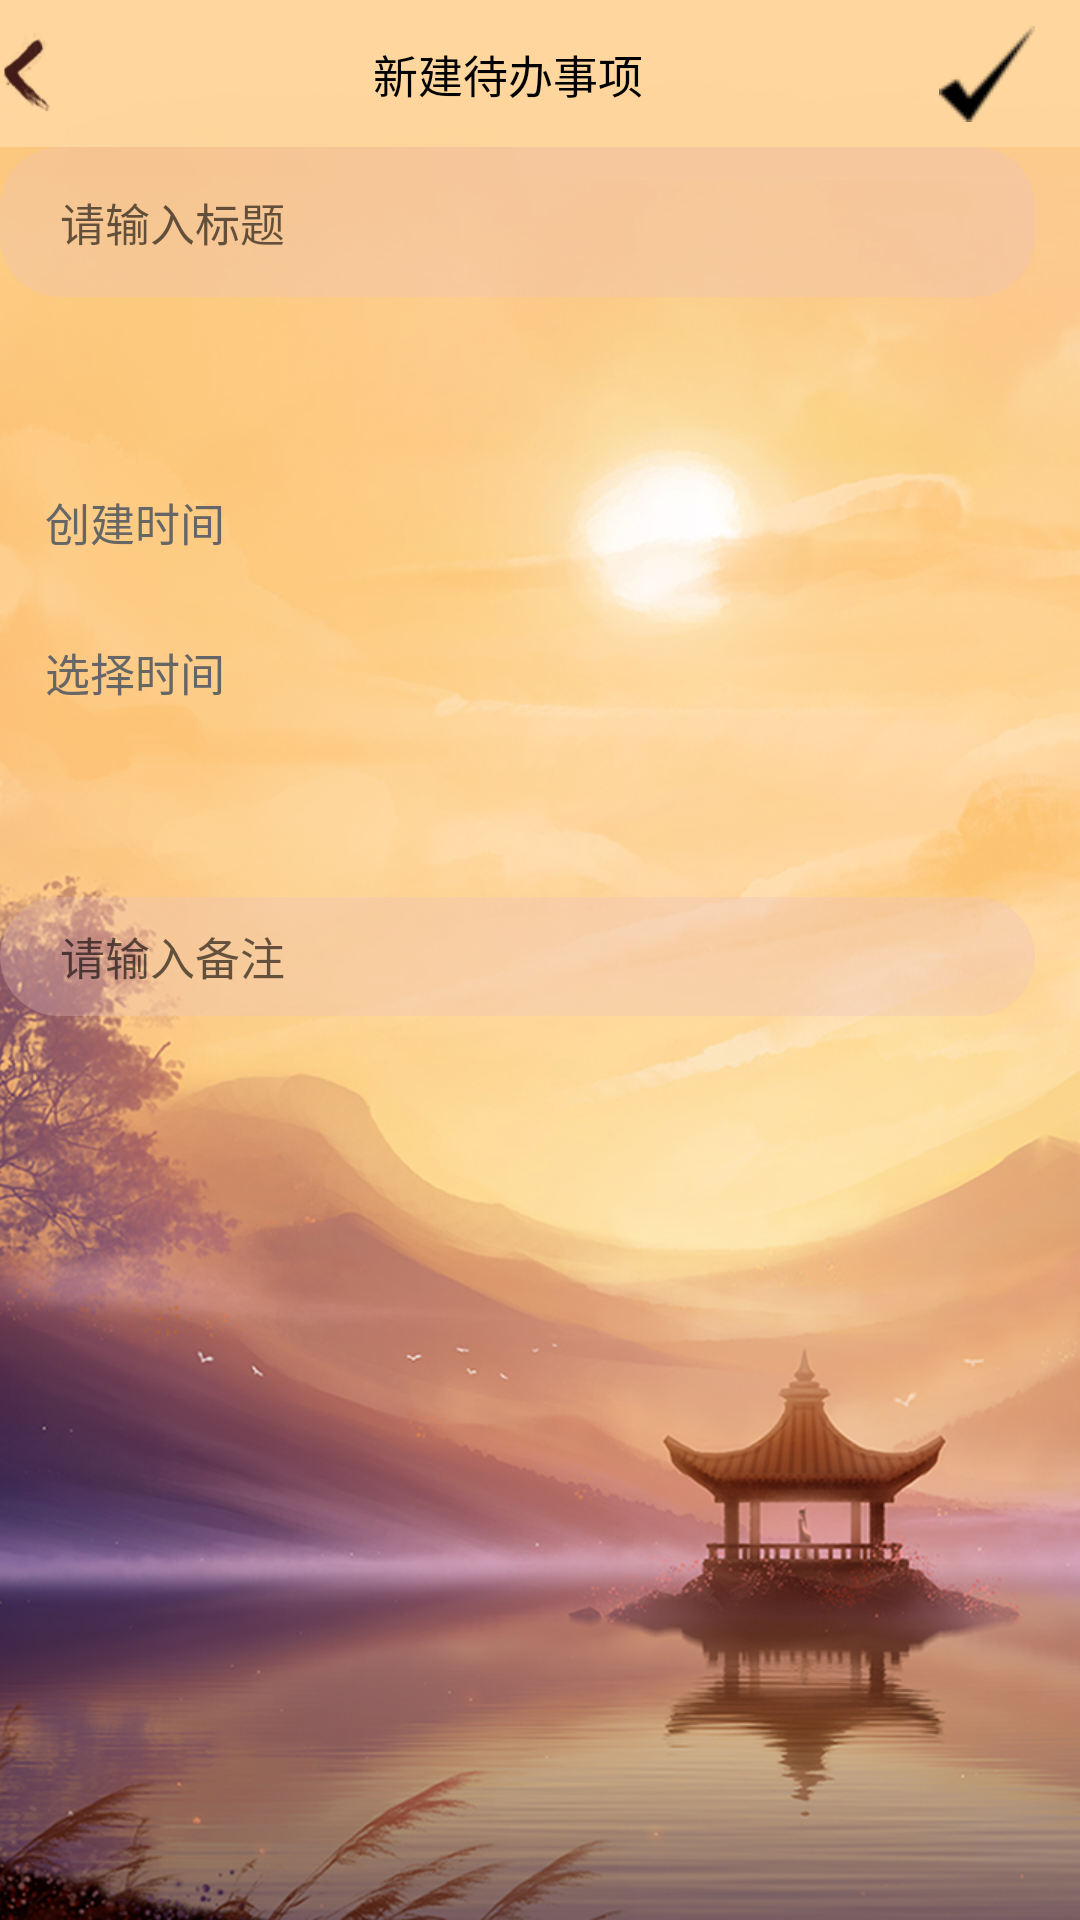

Where to tap for icons on this 1080×1920 app screen, as point (x, y):
back: point (26, 75)
yes: point (987, 74)
